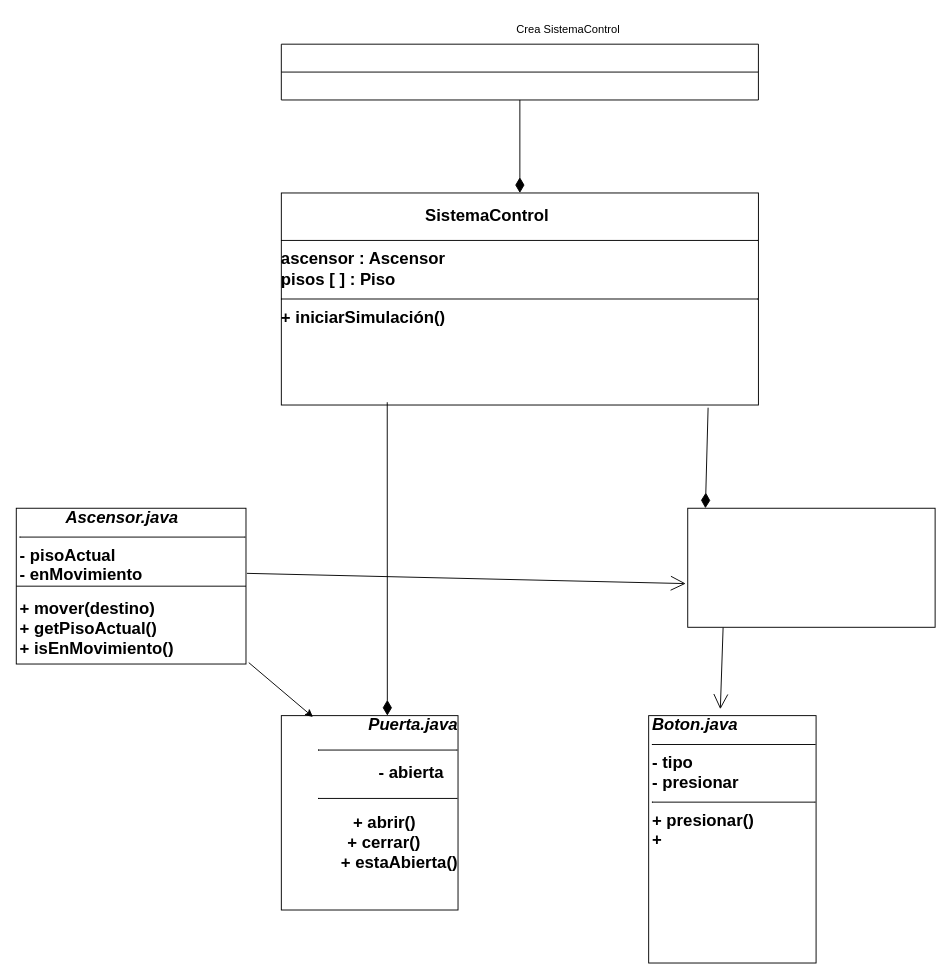
The diagram is 951 pixels wide and 979 high, and some of its shapes have lost their labels. The centre of each missing label's shape, as x and y in pixels:
"Main.java" belongs at pixel 519 71.
"Piso.java - número + getNumero()" belongs at pixel 811 567.
